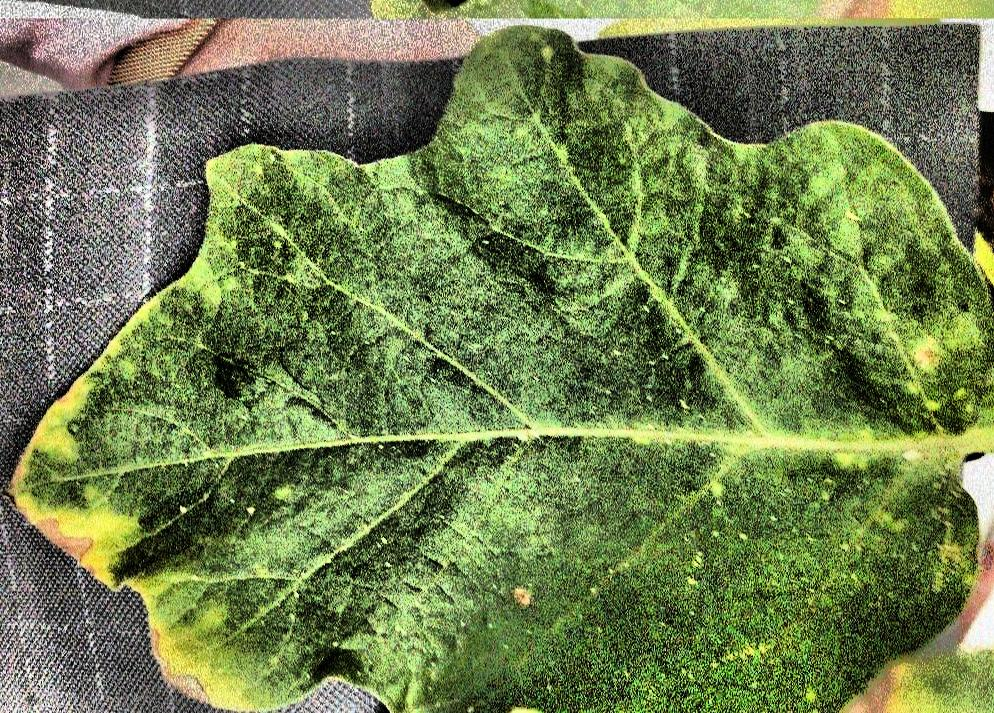Non-critical Stress: (1, 0, 994, 713)
